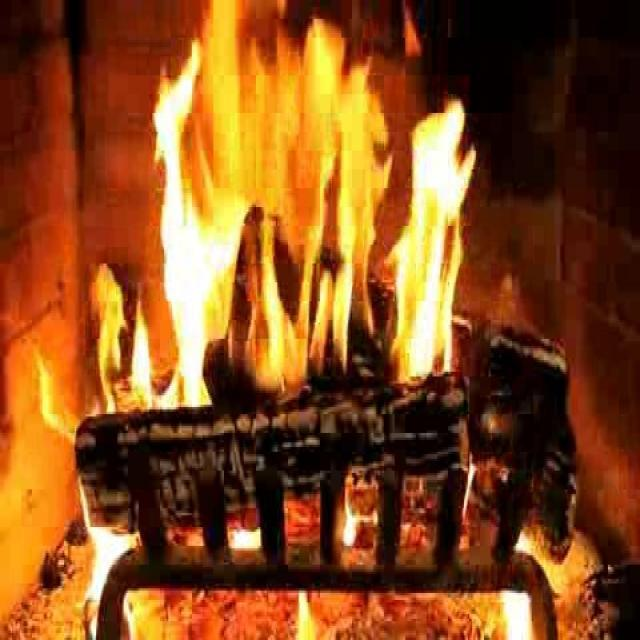Fire: (113, 4, 510, 457)
